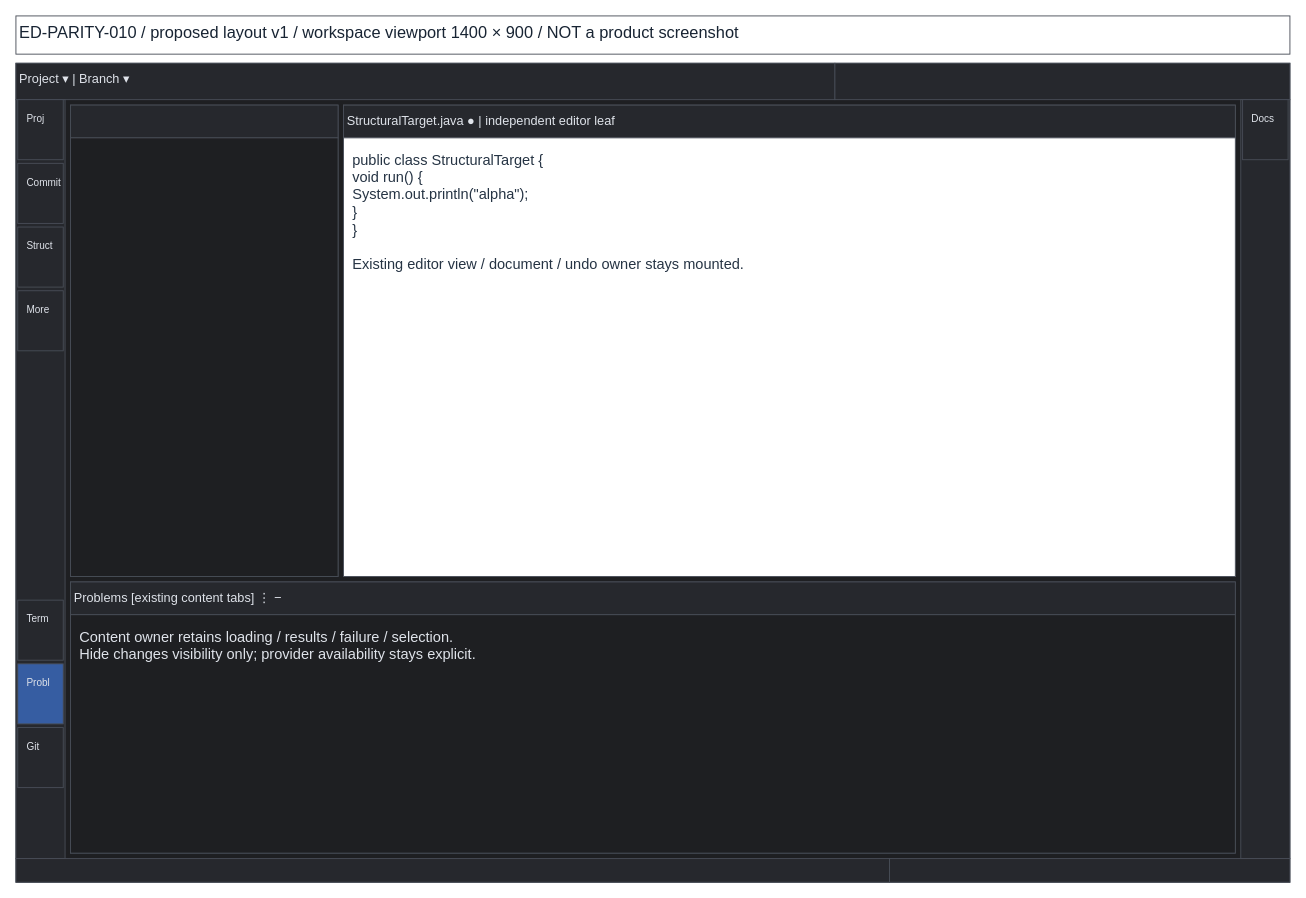
Image size: 1306x898. Some labels were removed from this diagram. Each missing label, with the centre of its shape:
13:1 | LF | UTF-8 | 2 spaces | Lock: (x=1089, y=870)
Current File ▾ | Run Debug ⋮ Search Settings: (x=1062, y=81)
fixture › src › StructuralTarget | SDK / Facts: (x=452, y=870)
fixture ▾ src StructuralTarget.java README.md: (x=204, y=356)
Project ⋮ −: (x=204, y=121)
